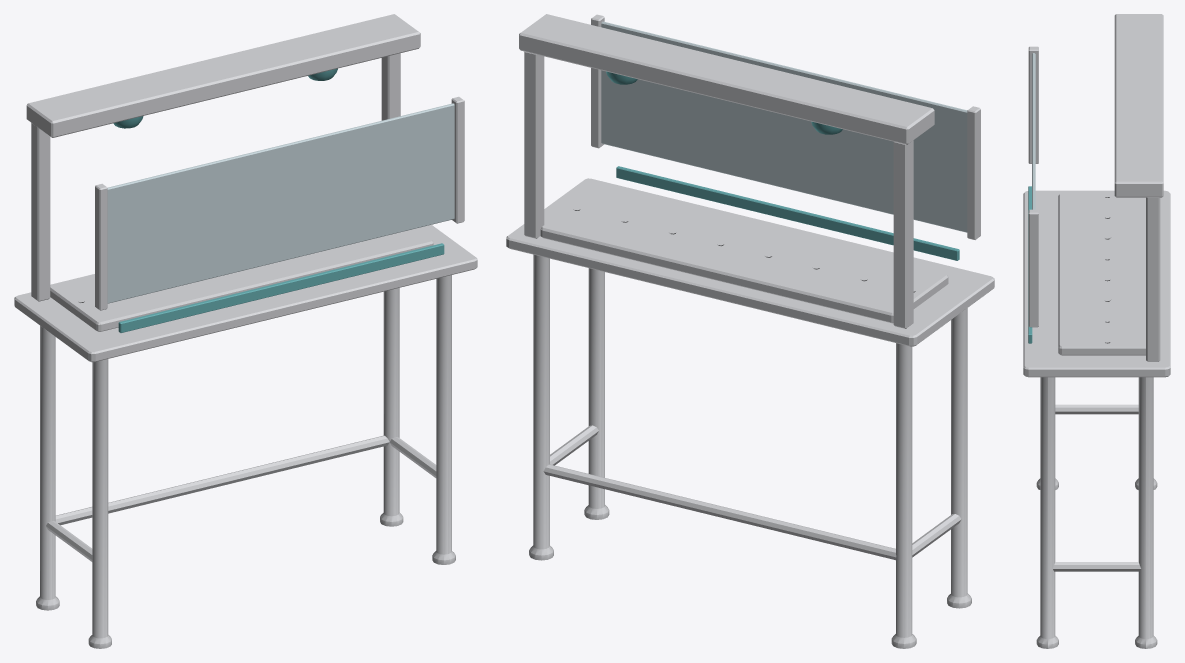
Rendered from fast-food-and-drive-thru-pass-through-heated-shelf-6ac46262__16150.glb.
3 views of the same model, side by side, from view 1: azimuth 30°, elevation 25°; view 2: azimuth 150°, elevation 25°; view 3: azimuth 270°, elevation 25° (orthographic). The views are drawn at different scales.
Parts seen in each view (by area): view 1: pass-through-heated-shelf; view 2: pass-through-heated-shelf; view 3: pass-through-heated-shelf.
Boxes of the visible parts, bbox=[...] form: pass-through-heated-shelf: bbox=[14, 14, 477, 648]; pass-through-heated-shelf: bbox=[506, 14, 994, 648]; pass-through-heated-shelf: bbox=[1023, 14, 1170, 648].
Bounding box in the file's own units: 1.2 × 1.47 × 0.42.
